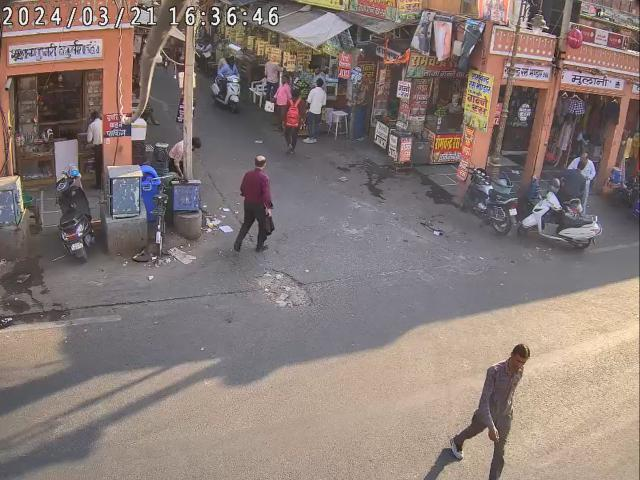bicycle: (150, 173, 178, 255)
motorbike: (458, 166, 518, 234)
person: (449, 341, 531, 480), (236, 155, 274, 256), (283, 86, 306, 152), (570, 153, 598, 207), (304, 79, 324, 144)
scooty: (520, 197, 602, 252), (49, 169, 92, 257)
scooty-rider: (213, 60, 242, 112)
